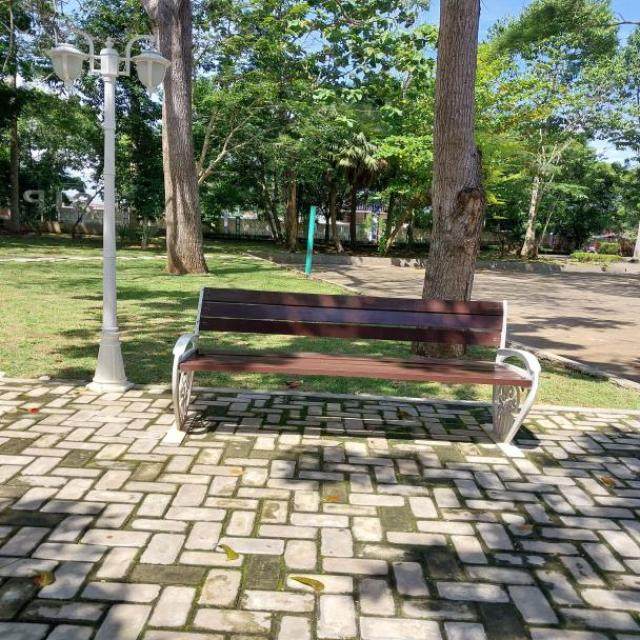bench ahead at: (167, 269, 547, 451)
electric pole ahead at: (46, 20, 165, 390)
